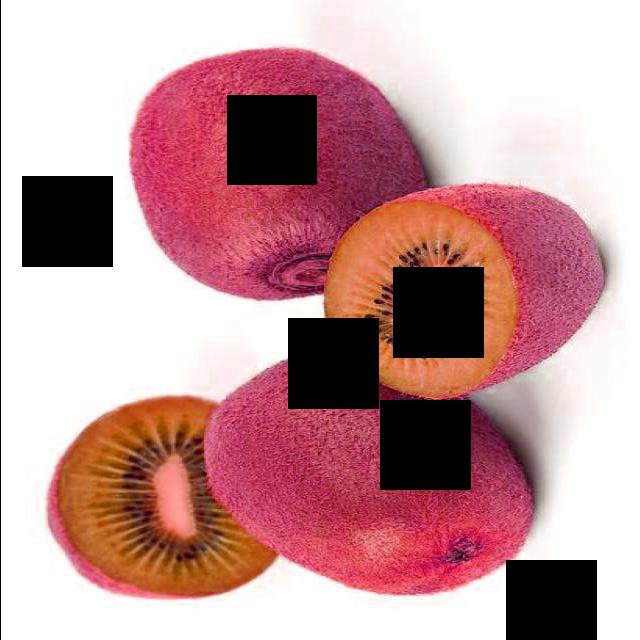kiwi: (220, 349, 546, 614), (135, 42, 390, 297), (338, 157, 604, 397), (39, 363, 247, 616)
